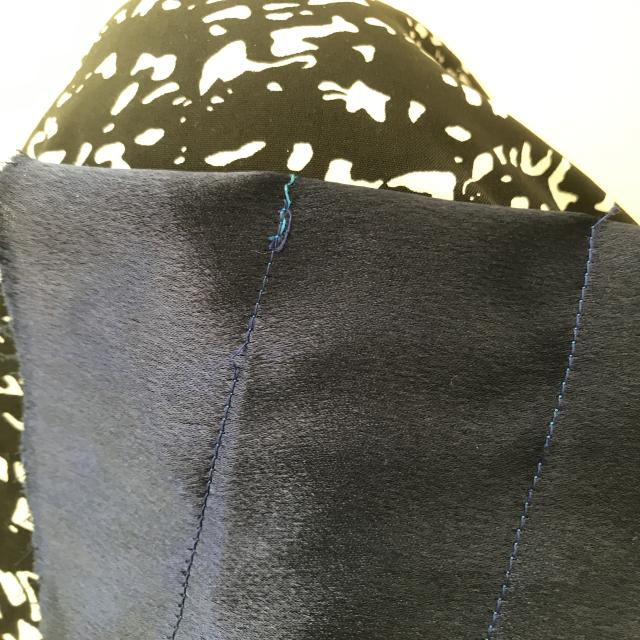broken: (226, 332, 272, 378)
